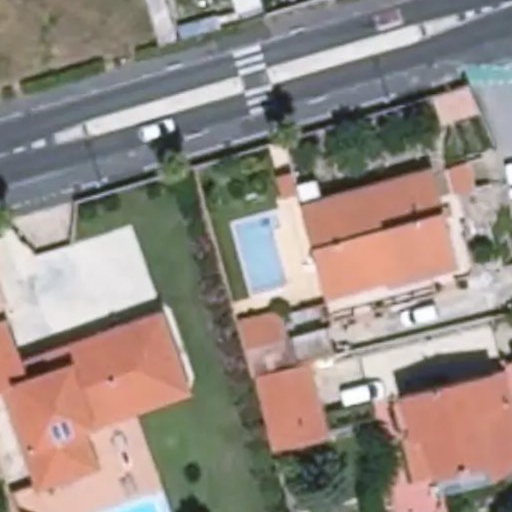pool: (228, 212, 291, 271)
